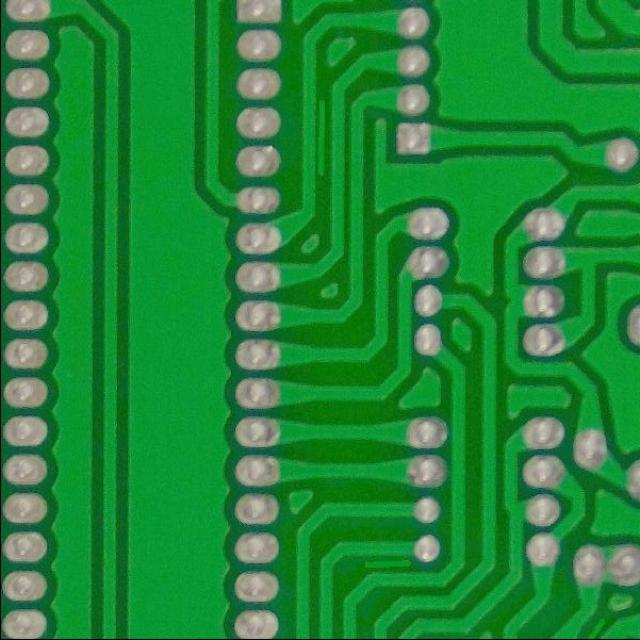spurious_copper: (304, 87, 336, 181), (356, 553, 421, 578), (568, 615, 607, 638)
